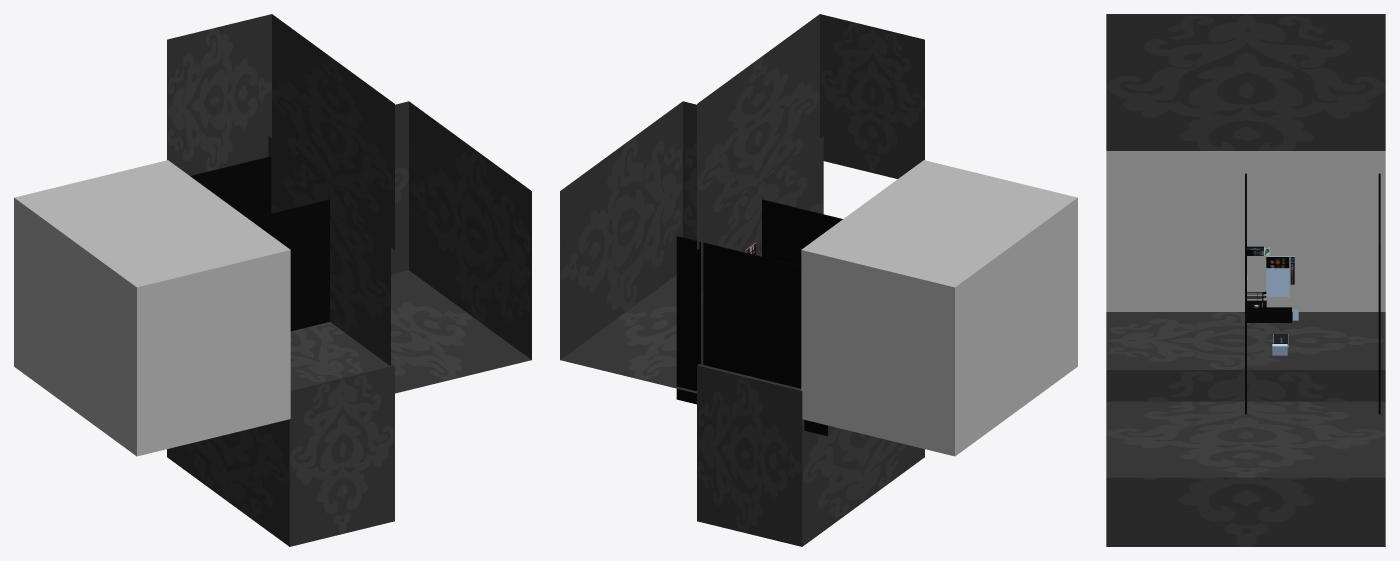
Rendered from caca8.dae.
3 views of the same model, side by side, from view 1: azimuth 30°, elevation 25°; view 2: azimuth 150°, elevation 25°; view 3: azimuth 270°, elevation 25° (orthographic). The views are drawn at different scales.
Visible parts, largest first — view 1: wall01, wall03, wall04, wall02, floor, ceiling; view 2: wall01, wall03, wall04, wall02, ceiling, floor; view 3: wall02, wall01, wall04, wall03, ceiling, door, bottlesBox, floor.
Part boxes in pixels (<box>): wall01: <box>14,160,290,456</box>; wall03: <box>268,101,531,393</box>; wall04: <box>167,14,394,249</box>; wall02: <box>167,322,394,546</box>; floor: <box>249,199,329,331</box>; ceiling: <box>190,156,271,218</box>; wall01: <box>801,160,1077,456</box>; wall03: <box>560,101,823,393</box>; wall04: <box>697,14,924,249</box>; wall02: <box>697,364,924,546</box>; ceiling: <box>676,236,827,435</box>; floor: <box>762,199,842,265</box>; wall02: <box>1106,312,1385,546</box>; wall01: <box>1106,151,1385,311</box>; wall04: <box>1106,14,1385,151</box>; wall03: <box>1106,401,1385,477</box>; ceiling: <box>1378,173,1380,414</box>; door: <box>1247,307,1291,322</box>; bottlesBox: <box>1266,268,1289,296</box>; floor: <box>1245,173,1246,414</box>.
Bounding box in the file's own units: 61.33 × 33.01 × 61.94.
32 materials, 14 textured.
